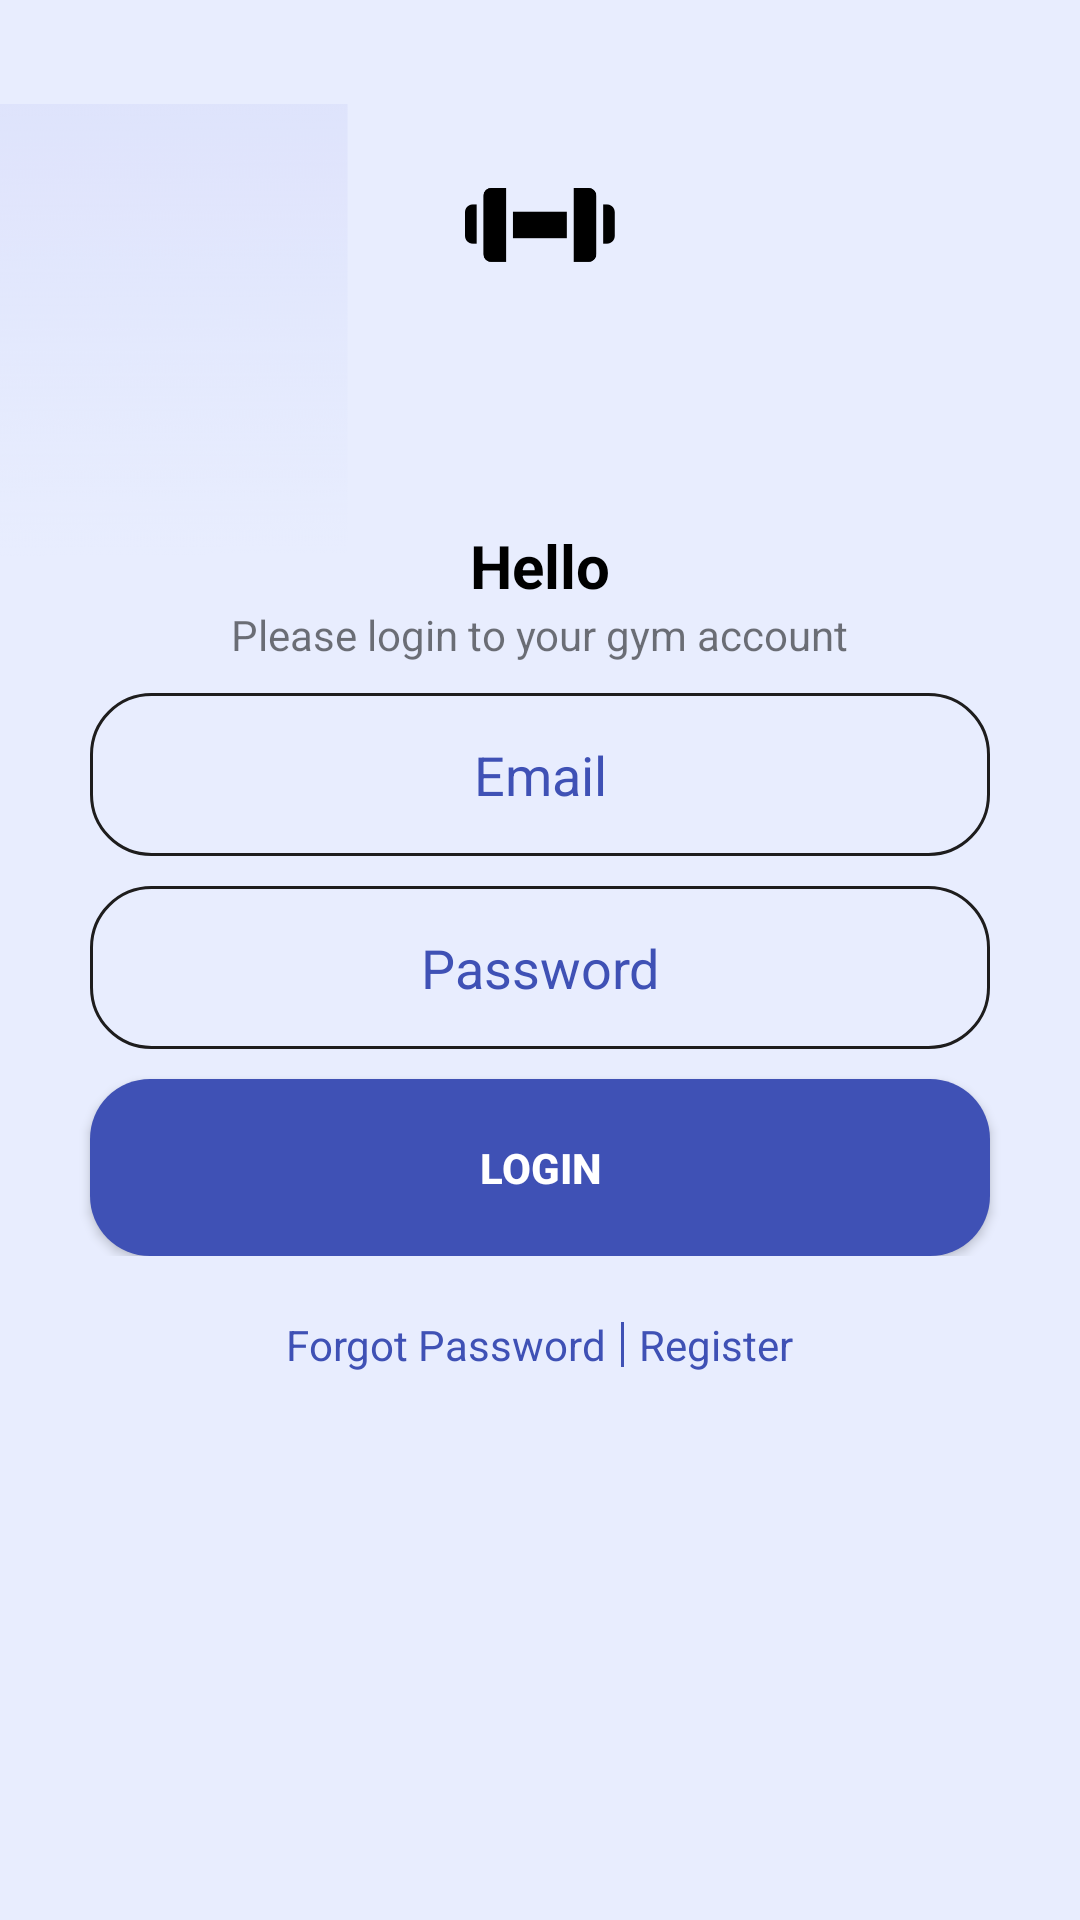

Icons on this 1080×1920 Android screen, each with its box as [left=x1, top=y1, right=x2, bottom=y2]:
gym: [left=465, top=188, right=615, bottom=262]
